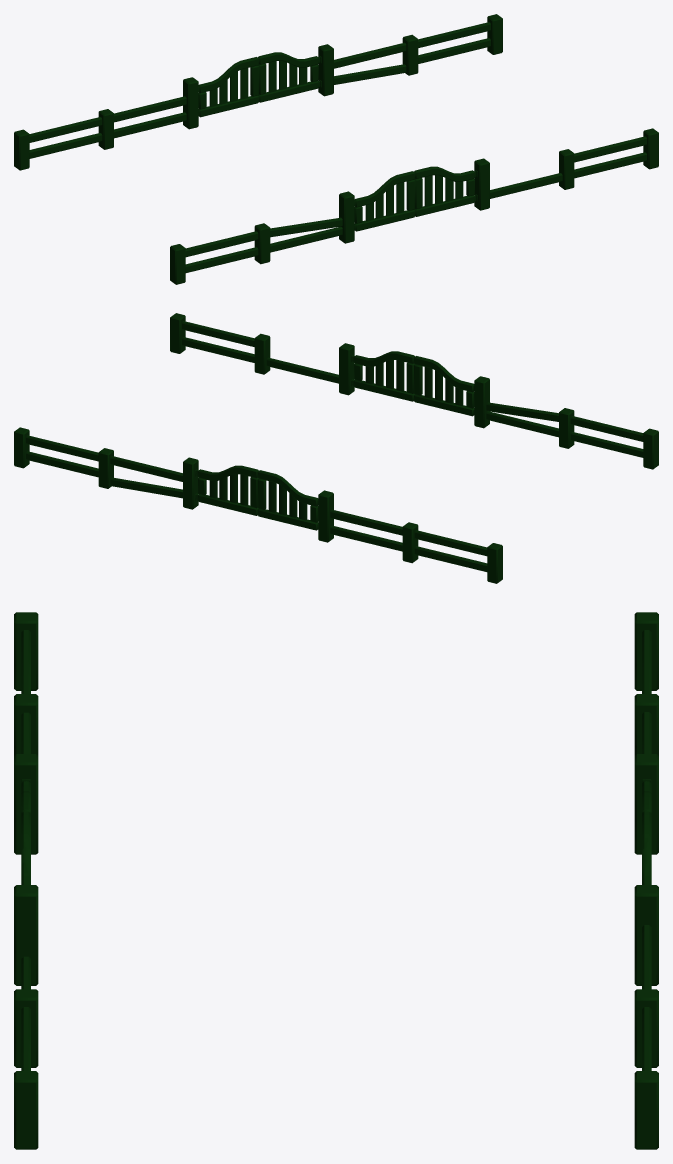
File: Fence.fbx
The picture shows the model from 3 angles, top to bottom: view 1: azimuth 30°, elevation 25°; view 2: azimuth 150°, elevation 25°; view 3: azimuth 270°, elevation 25°; orthographic projection. The views are drawn at different scales.
Parts seen in each view (by area): view 1: Fence; view 2: Fence; view 3: Fence.
Part boxes in pixels (box(x1,y1,x2,y2)): Fence: box(14, 14, 658, 284); Fence: box(14, 313, 658, 583); Fence: box(14, 612, 658, 1149).
Bounding box in the file's own units: 2863 × 300 × 1663.
